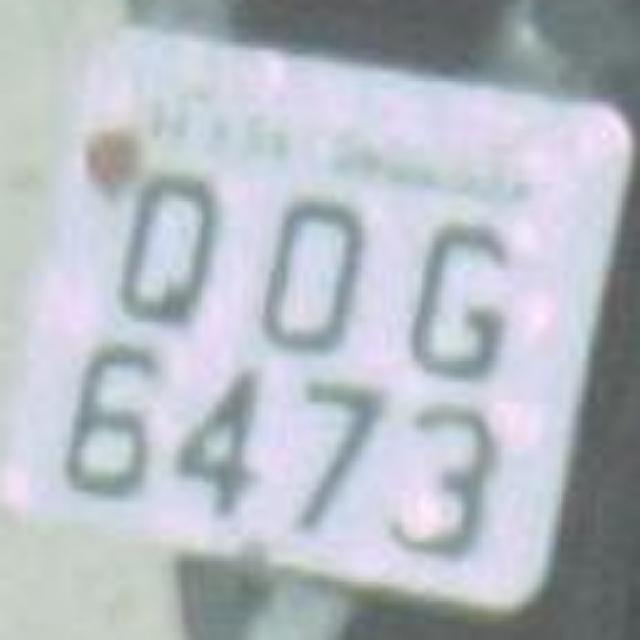3: (364, 375, 511, 560)
4: (144, 336, 296, 536)
6: (36, 312, 184, 520)
7: (268, 360, 392, 555), (156, 540, 284, 628)
O: (224, 175, 396, 360), (88, 156, 244, 344)
